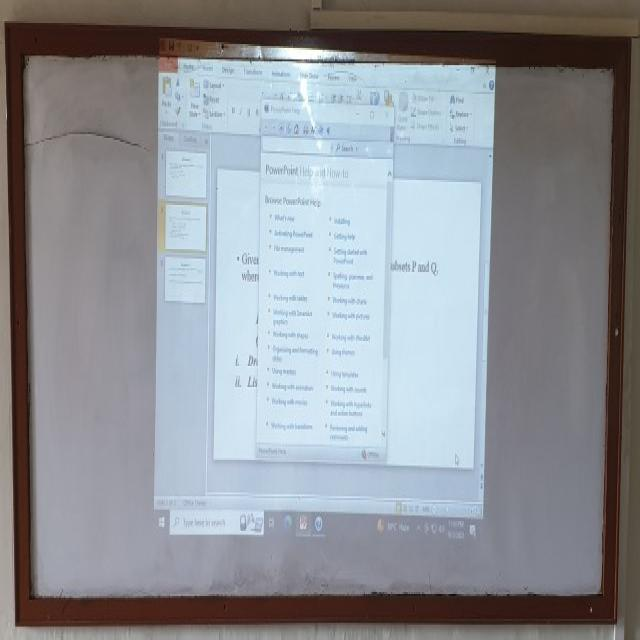Slide: (151, 43, 495, 559)
White-board: (14, 37, 624, 617)
